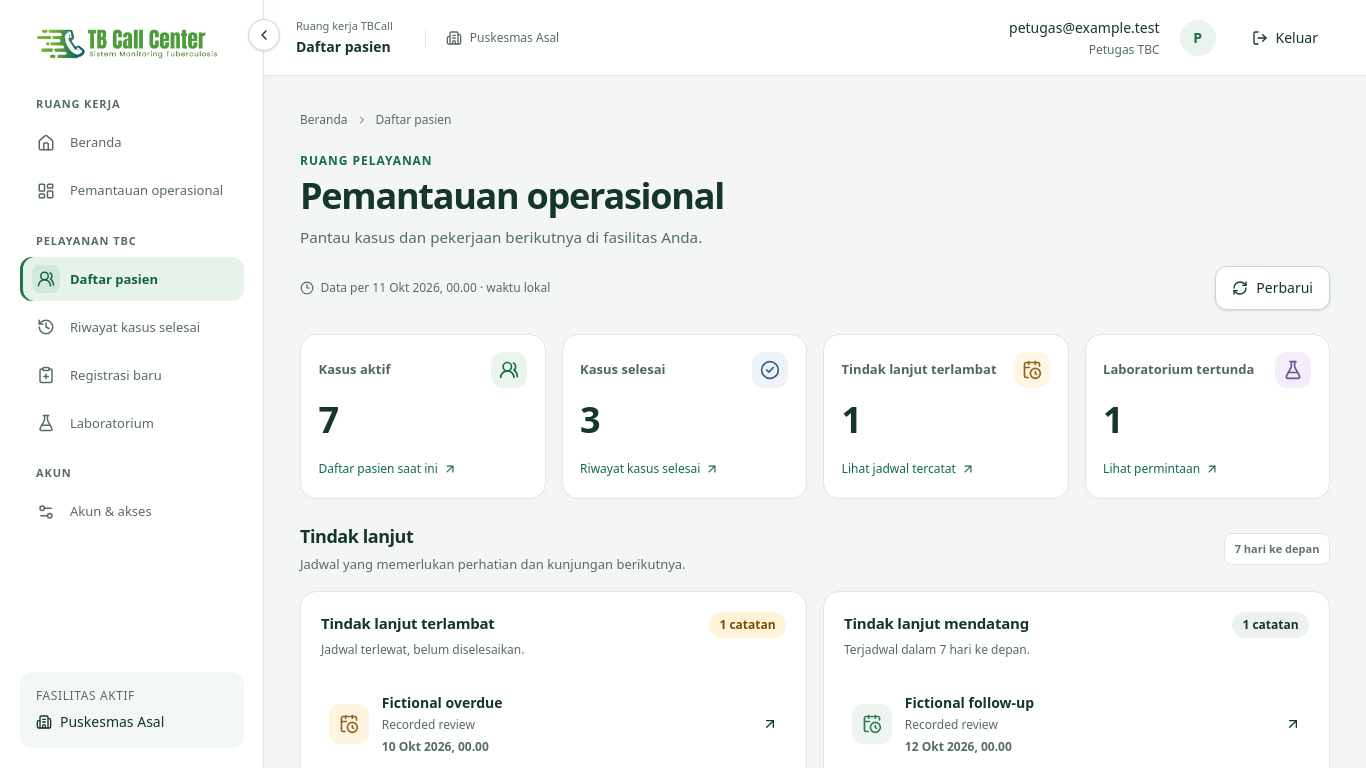
Test: hides stale protected rows after a failed refresh
What coordinates should you click on to do the following:
click the button "Perbarui"
I would click on:
 (1273, 288)
Its box is x1=1215 y1=266 x2=1330 y2=310.
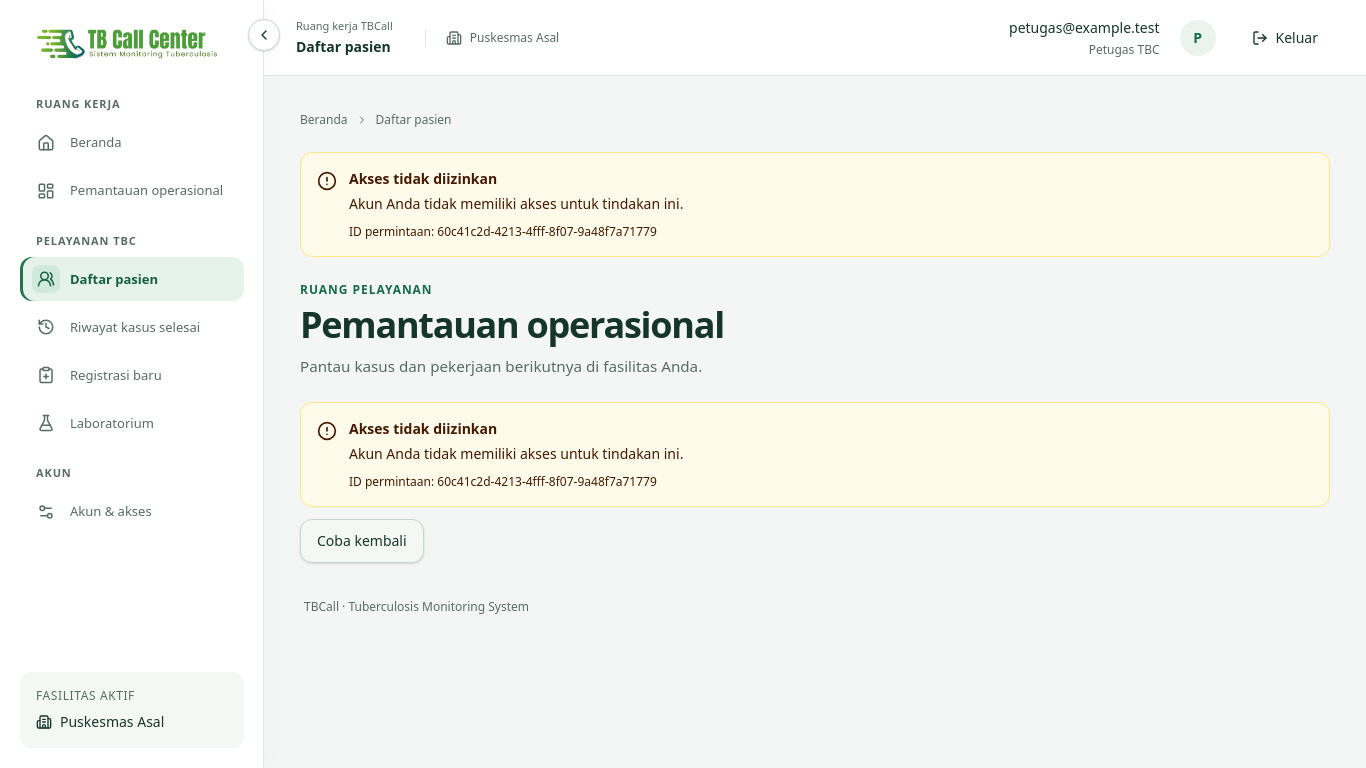
Expected: the button "Coba kembali" is shown, x1=300 y1=519 x2=424 y2=563
Expected: the link "Fictional follow-up" is gone
